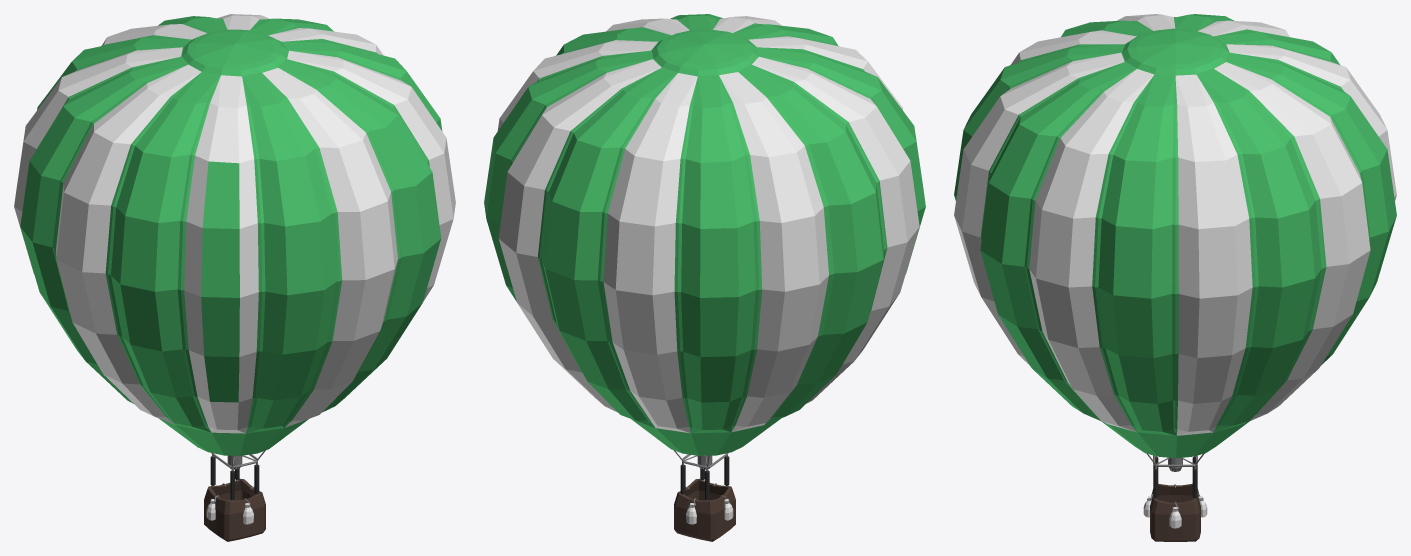
File: balloon.fbx
The picture shows the model from 3 angles, left to right: view 1: azimuth 30°, elevation 25°; view 2: azimuth 150°, elevation 25°; view 3: azimuth 270°, elevation 25°; orthographic projection.
Visible parts, largest first — view 1: 1389 Hot Air Balloon.001; view 2: 1389 Hot Air Balloon.001; view 3: 1389 Hot Air Balloon.001.
Part boxes in pixels (x1=…): 1389 Hot Air Balloon.001: x1=14, y1=14, x2=455, y2=541; 1389 Hot Air Balloon.001: x1=484, y1=14, x2=925, y2=541; 1389 Hot Air Balloon.001: x1=954, y1=14, x2=1396, y2=541.
Size of the model in its own units: 63.59 by 77.56 by 63.59.
